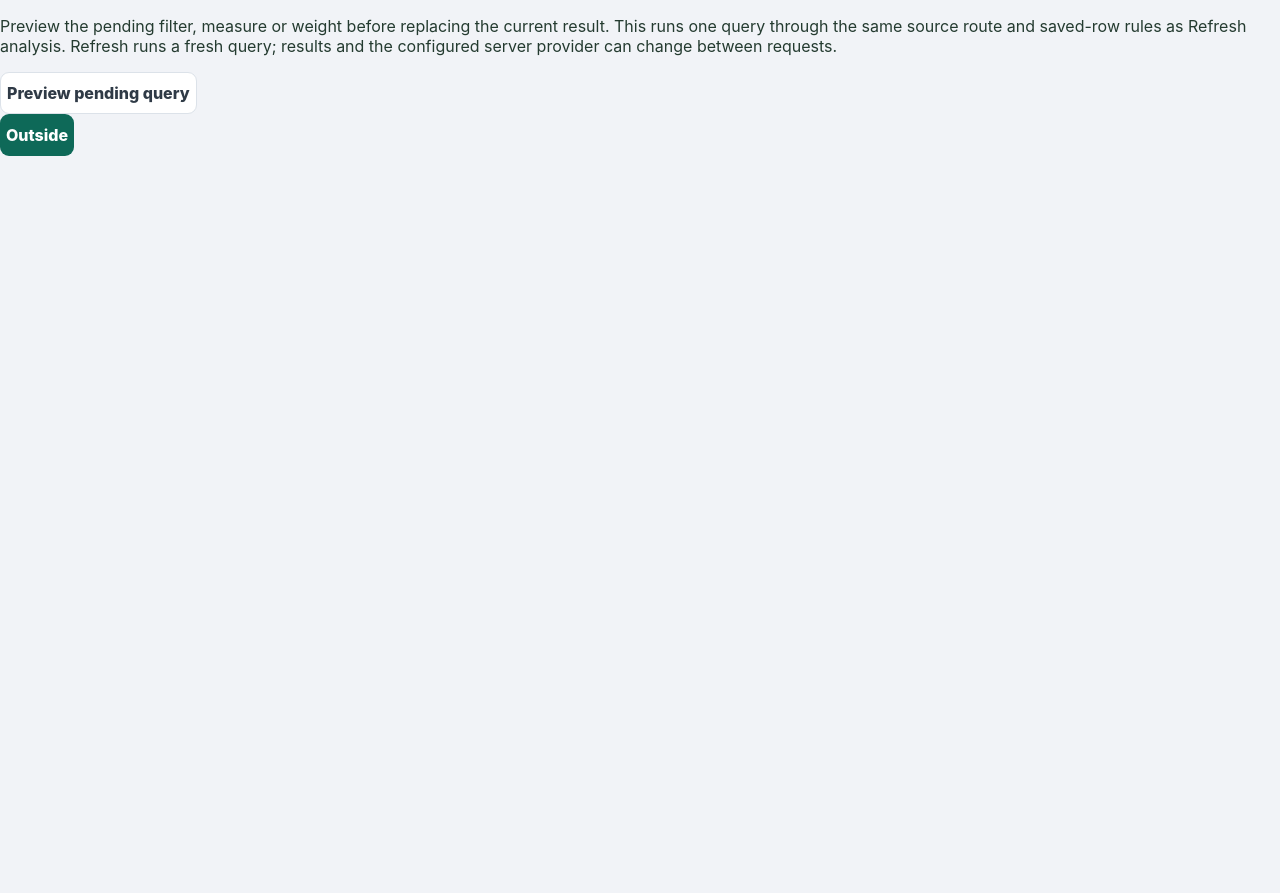
it: keeps focus inside controls when the cancel control disappears: complete
Click the button "Preview pending query": (98, 93) [0,72,197,114]
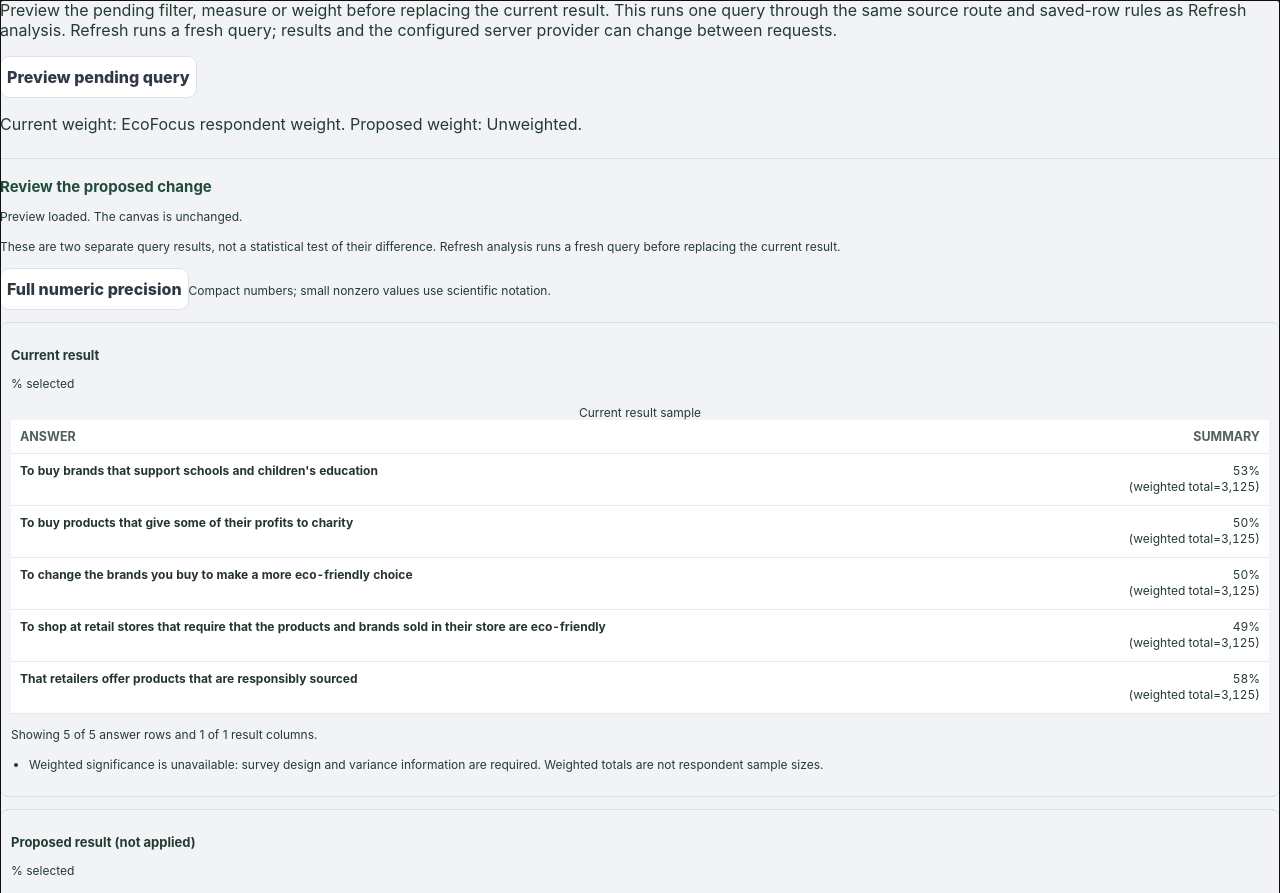
Expected: the button "Full numeric precision" is shown, [0,268,189,310]
